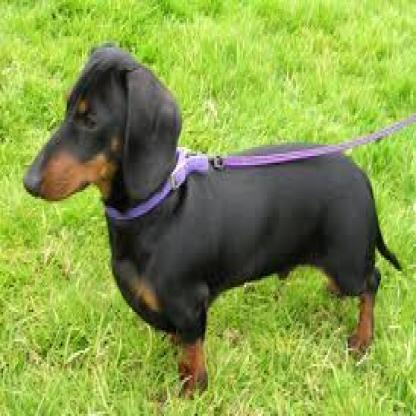Dachshund: (18, 33, 405, 377)
